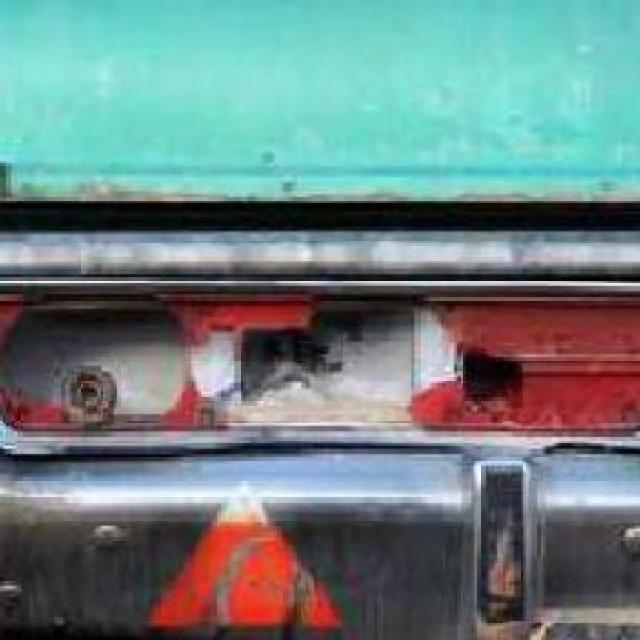damaged-tail-light: (0, 266, 637, 448)
